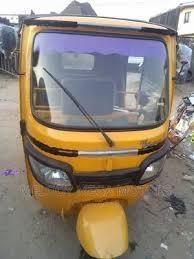keke: (15, 10, 175, 259)
